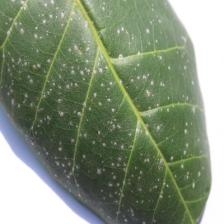red rust: (0, 0, 212, 223)
